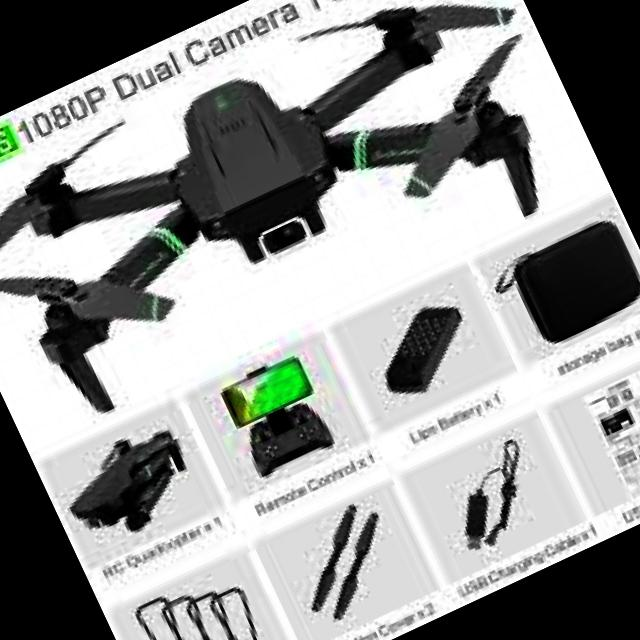drone: (0, 0, 606, 447)
